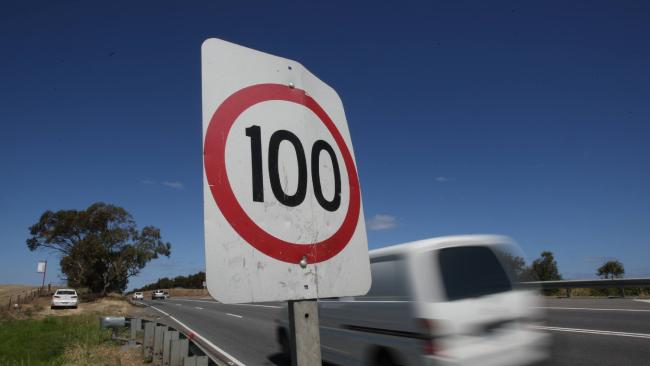Speed_limit_100km: (205, 83, 361, 265)
